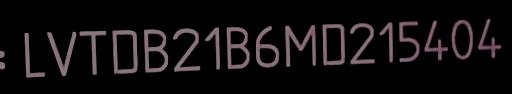letter: (280, 21, 318, 69), (76, 28, 110, 78), (108, 27, 142, 76), (44, 28, 78, 77), (140, 26, 172, 76), (170, 24, 202, 73), (447, 16, 477, 65), (317, 19, 347, 68), (222, 23, 252, 72), (347, 19, 377, 67), (20, 28, 48, 78), (474, 14, 504, 60), (422, 17, 450, 66), (396, 16, 422, 66), (253, 24, 281, 70), (376, 18, 394, 67), (203, 23, 221, 72)
